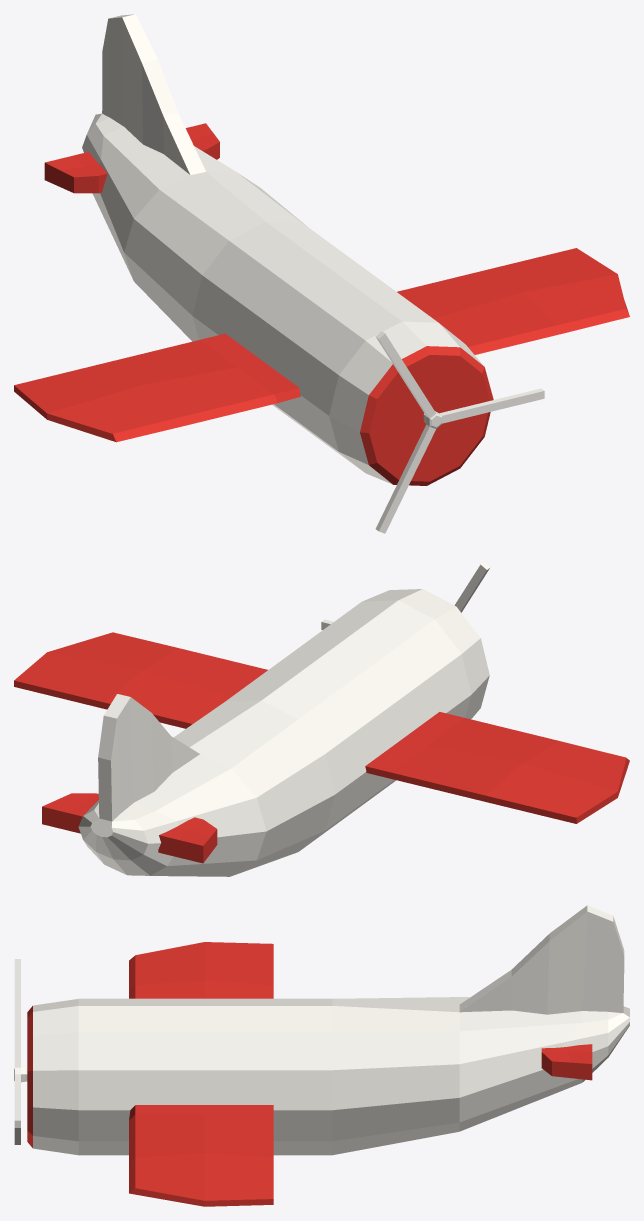
3 renders of one model, top to bottom at view 1: azimuth 30°, elevation 25°; view 2: azimuth 150°, elevation 25°; view 3: azimuth 270°, elevation 25°, orthographic. The views are drawn at different scales.
Parts seen in each view (by area): view 1: Body, Propellers; view 2: Body, Propellers; view 3: Body, Propellers.
Part boxes in pixels (<box>): Body: <box>14,14,629,485</box>; Propellers: <box>375,331,544,533</box>; Body: <box>14,589,629,876</box>; Propellers: <box>321,562,490,629</box>; Body: <box>14,905,629,1206</box>; Propellers: <box>14,959,20,1144</box>.
Size of the model in its own units: 885 by 415 by 890.
